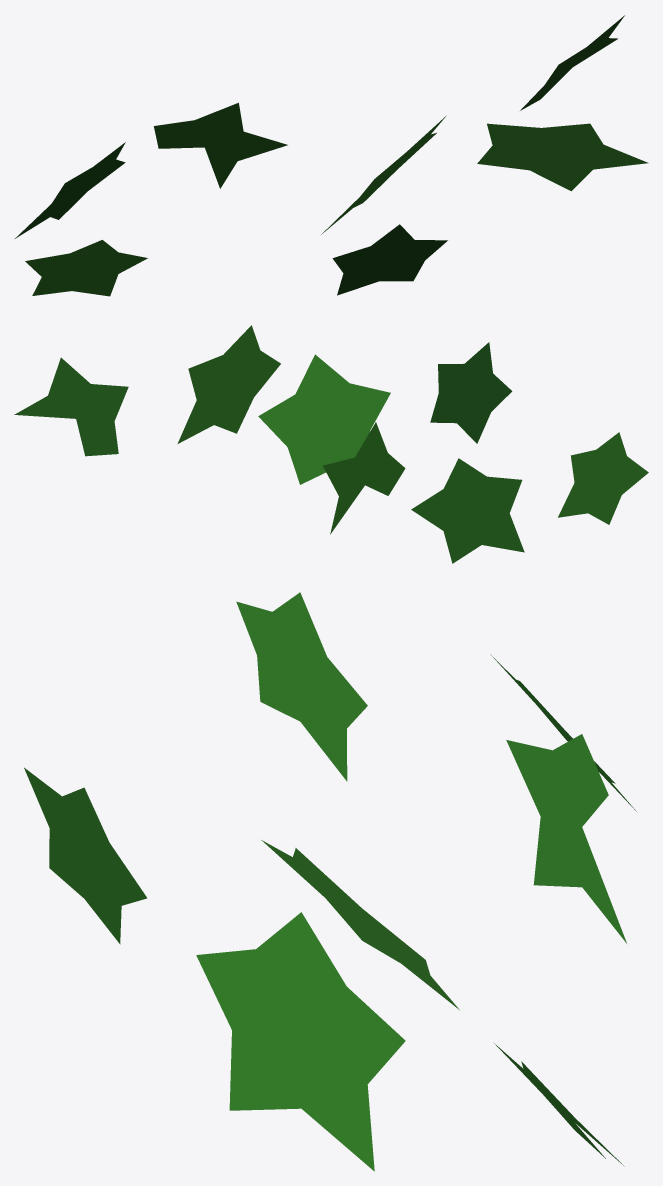
3 views of the same model, one above another, from view 1: azimuth 30°, elevation 25°; view 2: azimuth 150°, elevation 25°; view 3: azimuth 270°, elevation 25° (orthographic). The views are drawn at different scales.
Visible parts, largest first — view 1: r27c2_l11; view 2: r27c2_l11; view 3: r27c2_l11.
Boxes of the visible parts, left/top/right/bottom form: r27c2_l11: left=15, top=15, right=648, bottom=296; r27c2_l11: left=14, top=325, right=648, bottom=563; r27c2_l11: left=24, top=592, right=636, bottom=1171.
Bounding box in the file's own units: 1.81 × 0.3256 × 0.87.
